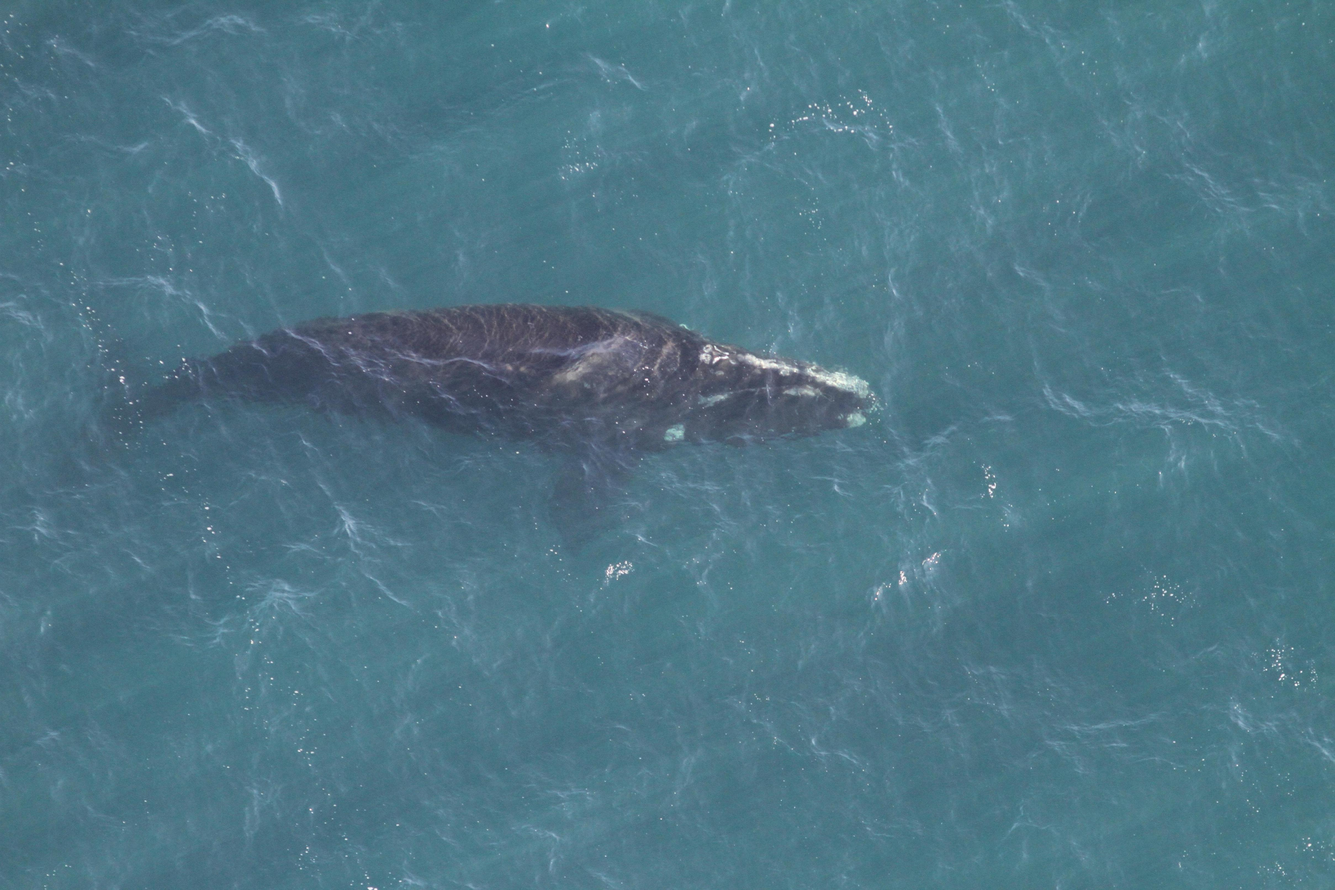whale: (51, 296, 886, 563)
